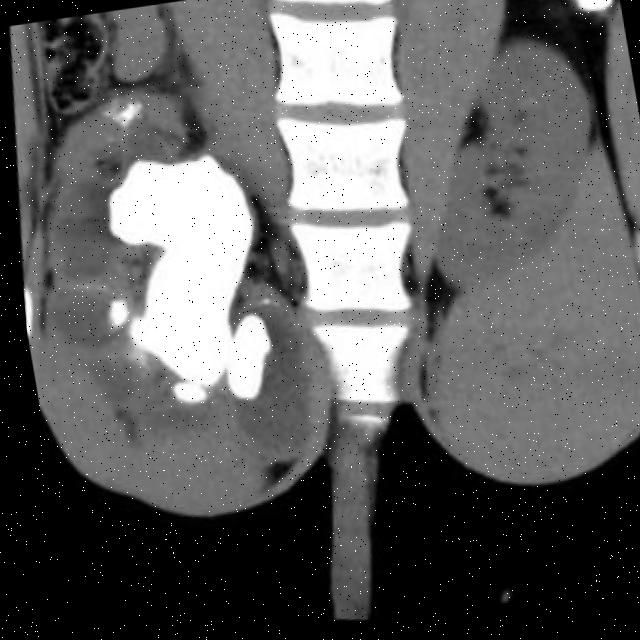Tas_Var: (69, 128, 288, 417), (200, 311, 281, 419), (150, 376, 208, 416), (93, 294, 128, 338), (116, 110, 133, 125), (253, 296, 267, 312), (119, 100, 134, 114), (262, 299, 274, 315), (97, 110, 111, 123)
